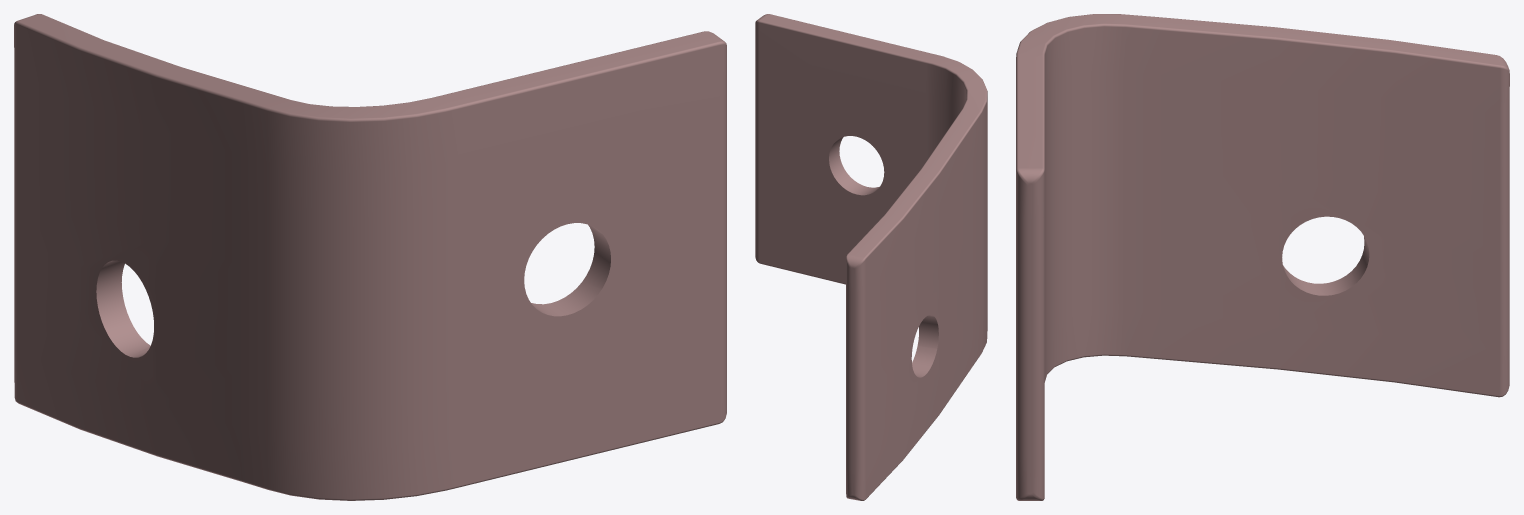
Rendered from table parts_10.fbx.
The picture shows the model from 3 angles, left to right: view 1: azimuth 30°, elevation 25°; view 2: azimuth 150°, elevation 25°; view 3: azimuth 270°, elevation 25°; orthographic projection. The views are drawn at different scales.
Parts seen in each view (by area): view 1: hinge_b_top_1_1; view 2: hinge_b_top_1_1; view 3: hinge_b_top_1_1.
Part boxes in pixels (left/top/right/bottom): hinge_b_top_1_1: left=14, top=14, right=726, bottom=500; hinge_b_top_1_1: left=755, top=14, right=987, bottom=500; hinge_b_top_1_1: left=1016, top=14, right=1509, bottom=500.
Size of the model in its own units: 0.7667 by 0.767 by 0.8599.
